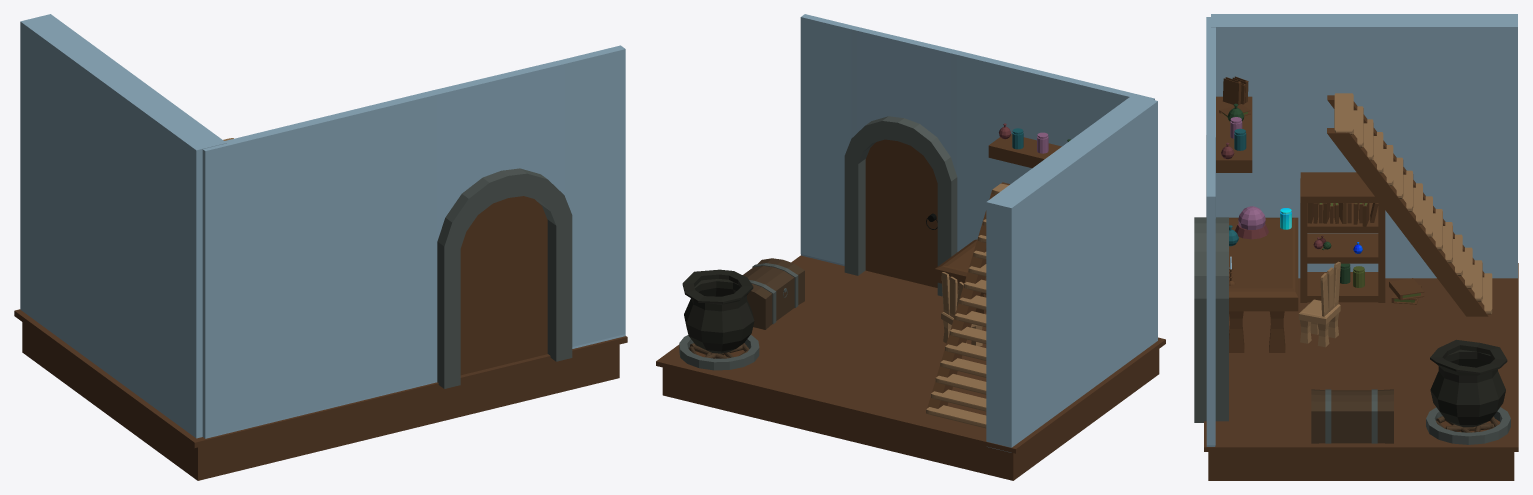
Rendered from Witch_Room.fbx.
The picture shows the model from 3 angles, left to right: view 1: azimuth 30°, elevation 25°; view 2: azimuth 150°, elevation 25°; view 3: azimuth 270°, elevation 25°; orthographic projection. The views are drawn at different scales.
Parts seen in each view (by area): view 1: ArchWall, RightWall, Floor, Door, Arch; view 2: RightWall, Floor, ArchWall, Door, Arch, Stairs.001, Cauldrom, Chest, Stairs, FirePlace, Shelf2, Chair (+2 smaller); view 3: RightWall, Floor, Shelf, Table, Stairs.001, Arch, Stairs, Cauldrom, Chest, ArchWall, Chair, Shelf2 (+6 smaller).
Part boxes in pixels (x1,y1,x2,y2): ArchWall: (202, 45, 625, 438); RightWall: (20, 14, 226, 438); Floor: (14, 309, 627, 480); Door: (460, 196, 547, 375); Arch: (437, 168, 572, 388); RightWall: (986, 95, 1157, 452); Floor: (656, 255, 1165, 480); ArchWall: (800, 14, 1154, 265); Door: (865, 139, 937, 287); Arch: (844, 116, 957, 296); Stairs.001: (926, 183, 1008, 428); Cauldrom: (682, 269, 754, 353); Chest: (743, 258, 804, 329); Stairs: (927, 182, 1010, 408); FirePlace: (679, 335, 759, 370); Shelf2: (988, 134, 1061, 168); Chair: (941, 272, 982, 346); RightWall: (1211, 14, 1517, 278); Floor: (1204, 263, 1518, 480); Shelf: (1300, 172, 1385, 302); Table: (1229, 217, 1298, 352); Stairs.001: (1334, 93, 1492, 314); Arch: (1194, 217, 1228, 422); Stairs: (1327, 95, 1488, 316); Cauldrom: (1430, 339, 1507, 427); Chest: (1311, 389, 1393, 443); ArchWall: (1206, 17, 1215, 446); Chair: (1298, 261, 1340, 347); Shelf2: (1216, 96, 1252, 172).
Bounding box in the file's own units: 308 × 224 × 229.
Materials: 33 (33 with a texture image).
